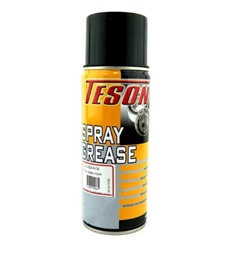Aerosol_cans: (80, 10, 153, 238)
